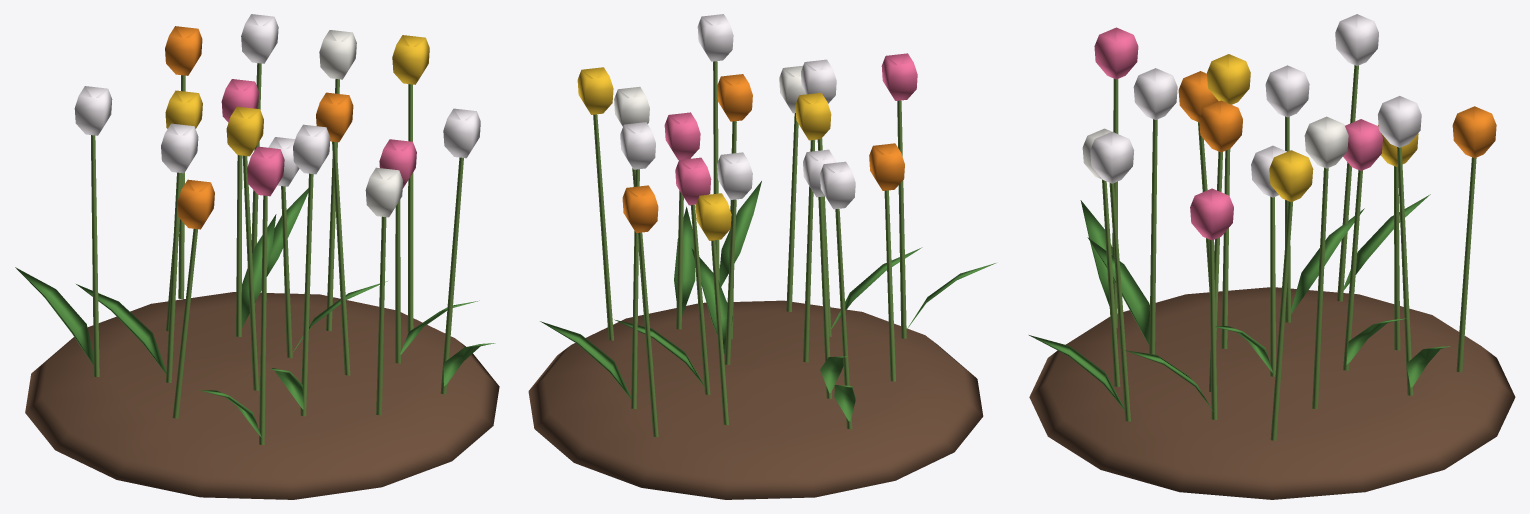
The model's file is tulips.far.glb.
3 views of the same model, side by side, from view 1: azimuth 30°, elevation 25°; view 2: azimuth 150°, elevation 25°; view 3: azimuth 270°, elevation 25° (orthographic). The views are drawn at different scales.
Visible parts, largest first — view 1: tulips; view 2: tulips; view 3: tulips.
Boxes of the visible parts, left/top/right/bottom form: tulips: left=15, top=14, right=499, bottom=499; tulips: left=528, top=14, right=995, bottom=499; tulips: left=1029, top=14, right=1515, bottom=499.
Size of the model in its own units: 0.84 by 0.6218 by 0.8433.
